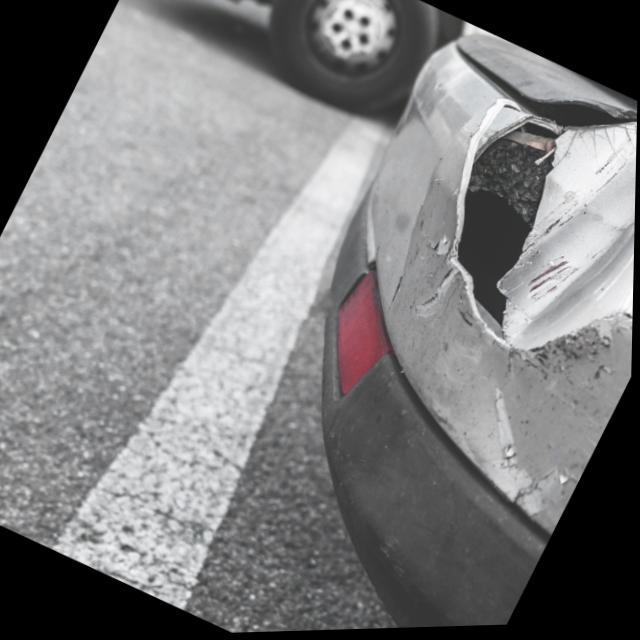crack: (456, 121, 570, 343)
dent: (508, 155, 637, 350)
scratch: (503, 258, 635, 512)
